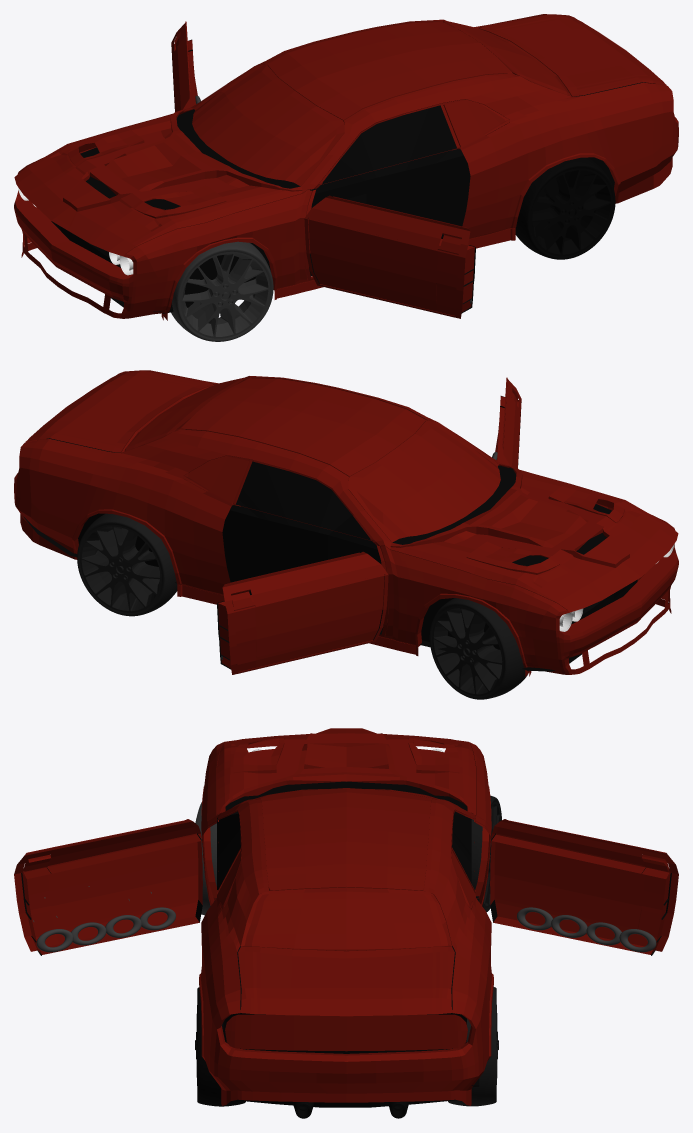
File: SedanMeio.glb
The picture shows the model from 3 angles, top to bottom: view 1: azimuth 30°, elevation 25°; view 2: azimuth 150°, elevation 25°; view 3: azimuth 270°, elevation 25°; orthographic projection. The views are drawn at different scales.
Parts seen in each view (by area): view 1: Plane, Cube.001, Circle.003, Circle.001; view 2: Plane, Cube.001, Circle.002, Circle.004, Circle; view 3: Plane, Cube.001, Plane.003, Circle.002, Circle.003, Circle.004, Circle.001, Circle.
Boxes of the visible parts, x1,y1,x2,y2 form: Plane: (14,14,678,320); Cube.001: (51,82,646,313); Circle.003: (515,157,615,259); Circle.001: (171,241,273,341); Plane: (14,370,678,676); Cube.001: (47,438,637,649); Circle.002: (77,513,177,616); Circle.004: (429,598,528,699); Circle: (23,516,581,671); Plane: (14,728,678,1105); Cube.001: (217,781,471,1107); Plane.003: (33,886,656,952); Circle.002: (448,987,498,1106); Circle.003: (195,987,245,1106); Circle.004: (471,795,501,912); Circle.001: (195,802,216,915); Circle: (293,896,479,1118).
Size of the model in its own units: 3.25 by 0.9807 by 2.82.
